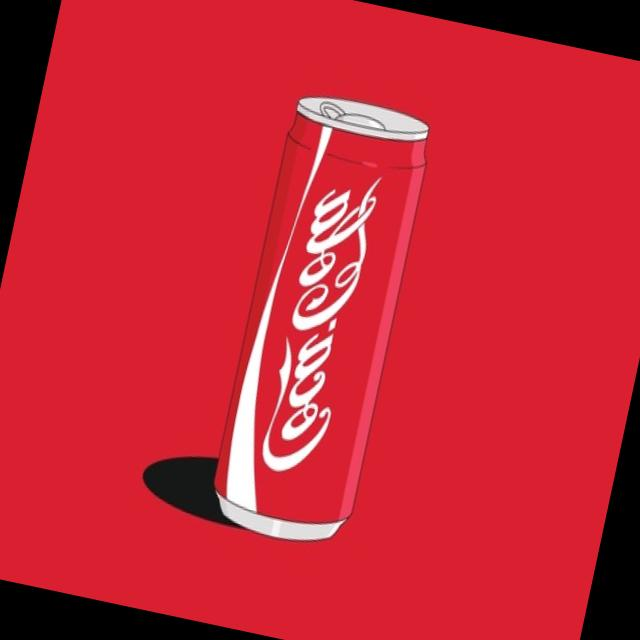cocacola: (201, 96, 443, 546)
